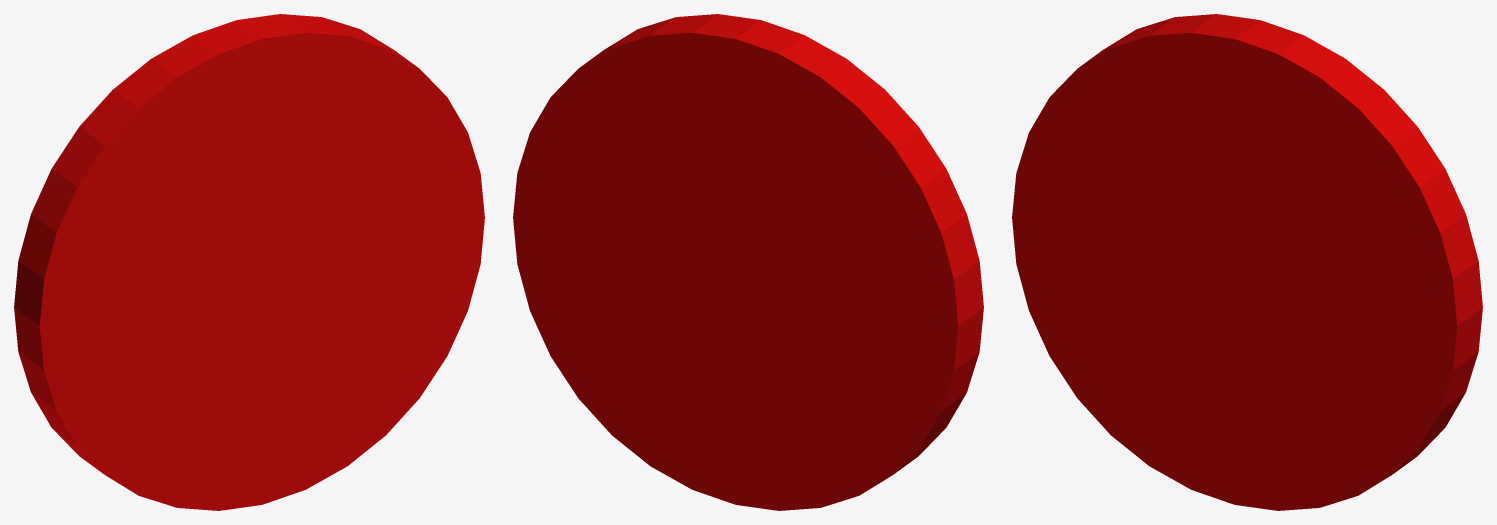
The model's file is red_chess_coin.glb.
The picture shows the model from 3 angles, left to right: view 1: azimuth 30°, elevation 25°; view 2: azimuth 150°, elevation 25°; view 3: azimuth 330°, elevation 25°; orthographic projection.
Parts seen in each view (by area): view 1: world; view 2: world; view 3: world.
Part boxes in pixels (bbox=[...]): world: bbox=[14, 14, 484, 510]; world: bbox=[513, 14, 983, 510]; world: bbox=[1012, 14, 1482, 510].
Bounding box in the file's own units: 1 × 1 × 0.1.
